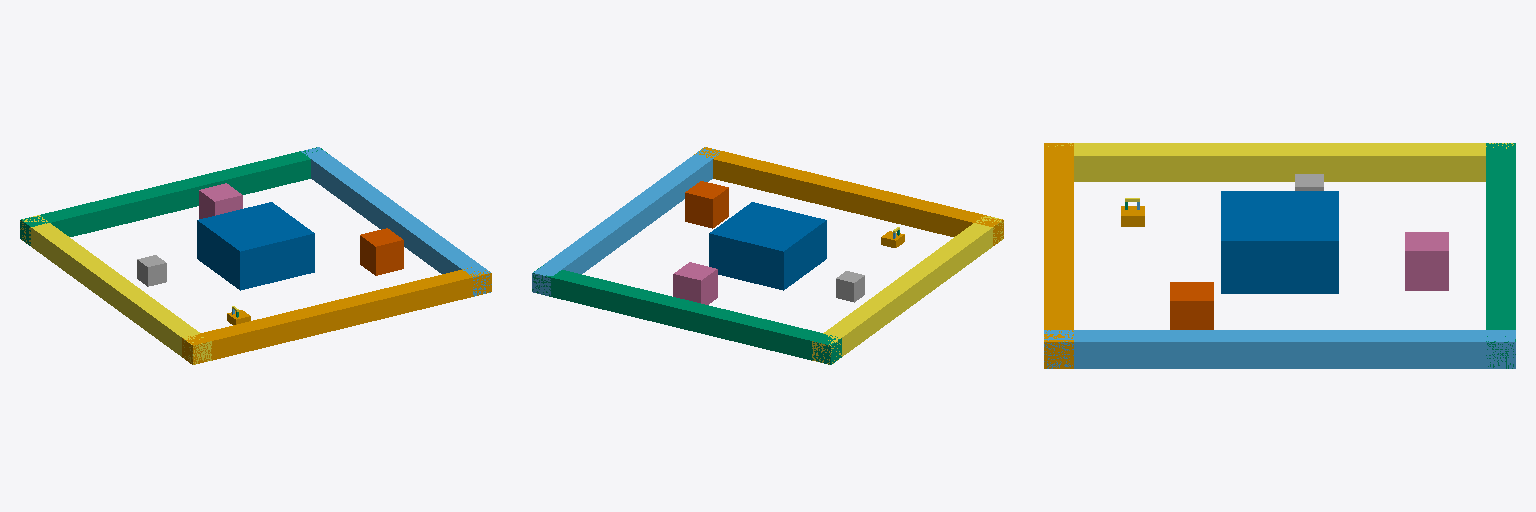
The robot description file, URDF, robot "test":
<robot name="test">

 <link name="wall_1">
    <inertial>
      <origin xyz="2.5 -1.25 0.25" /> 
      <mass value="1000.0" />
      <inertia  ixx="1.0" ixy="0.0"  ixz="0.0"  iyy="1.0"  iyz="0.0"  izz="1.0" />
    </inertial>
    <visual>
      <origin xyz="2.5 -1.25 0.25"/>
      <geometry>
        <box size="8 0.5 0.5" />
      </geometry>
    </visual>
    <collision>
      <origin xyz="2.5 -1.25 0.25"/>
      <geometry>
      <box size="8 0.5 0.5" />
      </geometry>
      <contact_coefficients mu ="1" /> 
    </collision>
  </link>

  <joint name="join1" type="fixed">
    <origin xyz="6.25 2.5 0.25" rpy="0 0 0"/>
    <parent link="wall_1"/>
    <child link="wall_2"/>
  </joint>

    <link name="wall_2">
    <inertial>
      <origin xyz="0 0 0" /> 
      <mass value="1000.0" />
      <inertia  ixx="1.0" ixy="0.0"  ixz="0.0"  iyy="1.0"  iyz="0.0"  izz="1.0" />
    </inertial>
    <visual>
      <origin xyz="0 0 0"/>
      <geometry>
        <box size="0.5 -8 0.5" />
      </geometry>
    </visual>
    <collision>
      <origin xyz="0 0 0"/>
      <geometry>
        <box size="0.5 -8 0.5" />
      </geometry>
      <contact_coefficients mu ="1" /> 
    </collision>
  </link>
  <joint name="join2" type="fixed">
    <origin xyz="-3.75 3.75 0" rpy="0 0 0"/>
    <parent link="wall_2"/>
    <child link="wall_3"/>
  </joint>
    <link name="wall_3">
    <inertial>
      <origin xyz="0 0 0" /> 
      <mass value="1000.0" />
      <inertia  ixx="1.0" ixy="0.0"  ixz="0.0"  iyy="1.0"  iyz="0.0"  izz="1.0" />
    </inertial>
    <visual>
      <origin xyz="0 0 0"/>
      <geometry>
        <box size="8 0.5 0.5" />
      </geometry>
    </visual>
    <collision>
      <origin xyz="0 0 0"/>
      <geometry>
        <box size="8 0.5 0.5" />
      </geometry>
      <contact_coefficients mu ="1" /> 
    </collision>
  </link>
  <joint name="join3" type="fixed">
    <origin xyz="-3.75 -3.75 0" rpy="0 0 0"/>
    <parent link="wall_3"/>
    <child link="wall_4"/>
  </joint>
    <link name="wall_4">
    <inertial>
      <origin xyz="0 0 0" /> 
      <mass value="1000.0" />
      <inertia  ixx="1.0" ixy="0.0"  ixz="0.0"  iyy="1.0"  iyz="0.0"  izz="1.0" />
    </inertial>
    <visual>
      <origin xyz="0 0 0"/>
      <geometry>
        <box size="0.5 -8 0.5" />
      </geometry>
    </visual>
    <collision>
      <origin xyz="0 0 0"/>
      <geometry>
        <box size="0.5 -8 0.5" />
      </geometry>
      <contact_coefficients mu ="1" /> 
    </collision>
  </link>
  <joint name="join4" type="fixed">
    <origin xyz="2.5 2.5 0.5" rpy="0 0 0"/>
    <parent link="wall_1"/>
    <child link="obs_1"/>
  </joint>
    <link name="obs_1">
    <inertial>
      <origin xyz="0 0 0" /> 
      <mass value="1000.0" />
      <inertia  ixx="1.0" ixy="0.0"  ixz="0.0"  iyy="1.0"  iyz="0.0"  izz="1.0" />
    </inertial>
    <visual>
      <origin xyz="0 0 0"/>
      <geometry>
        <box size="2 2 1" />
      </geometry>
    </visual>
    <collision>
      <origin xyz="0 0 0"/>
      <geometry>
        <box size="2 2 1" />
      </geometry>
      <contact_coefficients mu ="1" /> 
    </collision>
  </link>

  <joint name="join5" type="fixed">
    <origin xyz="5 1 0.375" rpy="0 0 0"/>
    <parent link="wall_1"/>
    <child link="obs_2"/>
  </joint>
    <link name="obs_2">
    <inertial>
      <origin xyz="0 0 0" /> 
      <mass value="1000.0" />
      <inertia  ixx="1.0" ixy="0.0"  ixz="0.0"  iyy="1.0"  iyz="0.0"  izz="1.0" />
    </inertial>
    <visual>
      <origin xyz="0 0 0"/>
      <geometry>
        <box size="0.75 0.75 0.75" />
      </geometry>
    </visual>
    <collision>
      <origin xyz="0 0 0"/>
      <geometry>
        <box size="0.75 0.75 0.75" />
      </geometry>
      <contact_coefficients mu ="1" /> 
    </collision>
  </link>

  <joint name="join6" type="fixed">
    <origin xyz="3 5 0.375" rpy="0 0 0"/>
    <parent link="wall_1"/>
    <child link="obs_3"/>
  </joint>
    <link name="obs_3">
    <inertial>
      <origin xyz="0 0 0" /> 
      <mass value="1000.0" />
      <inertia  ixx="1.0" ixy="0.0"  ixz="0.0"  iyy="1.0"  iyz="0.0"  izz="1.0" />
    </inertial>
    <visual>
      <origin xyz="0 0 0"/>
      <geometry>
        <box size="0.75 0.75 0.75" />
      </geometry>
    </visual>
    <collision>
      <origin xyz="0 0 0"/>
      <geometry>
        <box size="0.75 0.75 0.75" />
      </geometry>
      <contact_coefficients mu ="1" /> 
    </collision>
  </link>
  <joint name="join7" type="fixed">
    <origin xyz="0 3 0.25" rpy="0 0 0"/>
    <parent link="wall_1"/>
    <child link="obs_4"/>
  </joint>
    <link name="obs_4">
    <inertial>
      <origin xyz="0 0 0" /> 
      <mass value="1000.0" />
      <inertia  ixx="1.0" ixy="0.0"  ixz="0.0"  iyy="1.0"  iyz="0.0"  izz="1.0" />
    </inertial>
    <visual>
      <origin xyz="0 0 0"/>
      <geometry>
        <box size="0.5 0.5 0.5" />
      </geometry>
    </visual>
    <collision>
      <origin xyz="0 0 0"/>
      <geometry>
        <box size="0.5 0.5 0.5" />
      </geometry>
      <contact_coefficients mu ="1" /> 
    </collision>
  </link>
 

  <joint name="join10" type="fixed">
    <origin xyz="0.6 0 0.1" rpy="0 0 0"/>
    <parent link="wall_1"/>
    <child link="obs_7"/>
  </joint>
    <link name="obs_7">
    <inertial>
      <origin xyz="0 0 0" /> 
      <mass value="1000.0" />
      <inertia  ixx="1.0" ixy="0.0"  ixz="0.0"  iyy="1.0"  iyz="0.0"  izz="1.0" />
    </inertial>
    <visual>
      <origin xyz="0 0 0"/>
      <geometry>
        <box size="0.4 0.4 0.2" />
      </geometry>
    </visual>
    <collision>
      <origin xyz="0 0 0"/>
      <geometry>
        <box size="0.4 0.4 0.2" />
      </geometry>
      <contact_coefficients mu ="1" /> 
    </collision>
  </link>

  <joint name="join11" type="fixed">
    <origin xyz="0.5 0.1 0.275" rpy="0 0 0"/>
    <parent link="wall_1"/>
    <child link="obs_8"/>
  </joint>
    <link name="obs_8">
    <inertial>
      <origin xyz="0 0 0" /> 
      <mass value="1000.0" />
      <inertia  ixx="1.0" ixy="0.0"  ixz="0.0"  iyy="1.0"  iyz="0.0"  izz="1.0" />
    </inertial>
    <visual>
      <origin xyz="0 0 0"/>
      <geometry>
        <box size="0.05 0.05 0.15" />
      </geometry>
    </visual>
    <collision>
      <origin xyz="0 0 0"/>
      <geometry>
        <box size="0.05 0.05 0.15" />
      </geometry>
      <contact_coefficients mu ="1" /> 
    </collision>
  </link>

  <joint name="join12" type="fixed">
    <origin xyz="0.5 -0.1 0.275" rpy="0 0 0"/>
    <parent link="wall_1"/>
    <child link="obs_9"/>
  </joint>
    <link name="obs_9">
    <inertial>
      <origin xyz="0 0 0" /> 
      <mass value="1000.0" />
      <inertia  ixx="1.0" ixy="0.0"  ixz="0.0"  iyy="1.0"  iyz="0.0"  izz="1.0" />
    </inertial>
    <visual>
      <origin xyz="0 0 0"/>
      <geometry>
        <box size="0.05 0.05 0.15" />
      </geometry>
    </visual>
    <collision>
      <origin xyz="0 0 0"/>
      <geometry>
        <box size="0.05 0.05 0.15" />
      </geometry>
      <contact_coefficients mu ="1" /> 
    </collision>
  </link>

  <joint name="join13" type="fixed">
    <origin xyz="0.5 0 0.375" rpy="0 0 0"/>
    <parent link="wall_1"/>
    <child link="obs_top"/>
  </joint>
    <link name="obs_top">
    <inertial>
      <origin xyz="0 0 0" /> 
      <mass value="1000.0" />
      <inertia  ixx="1.0" ixy="0.0"  ixz="0.0"  iyy="1.0"  iyz="0.0"  izz="1.0" />
    </inertial>
    <visual>
      <origin xyz="0 0 0"/>
      <geometry>
        <box size="0.05 0.25 0.05" />
      </geometry>
    </visual>
    <collision>
      <origin xyz="0 0 0"/>
      <geometry>
        <box size="0.05 0.25 0.05" />
      </geometry>
      <contact_coefficients mu ="1" /> 
    </collision>
  </link>




  <gazebo reference="wall_1">
  <material>Gazebo/Grey</material>
  <selfCollide>true</selfCollide>
  </gazebo>
  <gazebo reference="wall_2">
  <material>Gazebo/Grey</material>
  <selfCollide>true</selfCollide>
  </gazebo>
  <gazebo reference="wall_3">
  <material>Gazebo/Grey</material>
  <selfCollide>true</selfCollide>
  </gazebo>
  <gazebo reference="wall_4">
  <material>Gazebo/Grey</material>
  <selfCollide>true</selfCollide>
  </gazebo>
  <gazebo reference="obs_1">
  <material>Gazebo/Red</material>
  <selfCollide>true</selfCollide>
  </gazebo>
  <gazebo reference="obs_2">
  <material>Gazebo/Green</material>
  <selfCollide>true</selfCollide>
  </gazebo>  
  <gazebo reference="obs_3">
  <material>Gazebo/Blue</material>
  <selfCollide>true</selfCollide>
  </gazebo>    
  <gazebo reference="obs_4">
  <material>Gazebo/Purple</material>
  <selfCollide>true</selfCollide>
  </gazebo>    
    
</robot>

--- Render facts (derived) ---
Views: 3 orthographic renders of the robot side by side, from view 1: azimuth 30°, elevation 25°; view 2: azimuth 150°, elevation 25°; view 3: azimuth 270°, elevation 25°.
Robot: test — 12 links, 11 joints (11 fixed); root link wall_1; default pose: all joints at 0.
Links seen in each view (by area): view 1: wall_1, obs_1, wall_3, wall_4, wall_2, obs_2, obs_3, obs_4; view 2: wall_3, wall_1, obs_1, wall_4, wall_2, obs_2, obs_3, obs_4; view 3: wall_2, wall_4, obs_1, wall_1, wall_3, obs_3, obs_2.
Boxes of the visible links, box(x1,y1,x2,y2) form: wall_1: box(182, 267, 491, 364); obs_1: box(197, 202, 314, 290); wall_3: box(20, 147, 327, 245); wall_4: box(20, 215, 211, 364); wall_2: box(301, 147, 491, 296); obs_2: box(360, 228, 403, 275); obs_3: box(199, 183, 242, 218); obs_4: box(137, 255, 166, 286); wall_3: box(532, 265, 841, 364); wall_1: box(694, 147, 1003, 245); obs_1: box(709, 202, 826, 290); wall_4: box(812, 216, 1003, 364); wall_2: box(532, 147, 719, 295); obs_2: box(685, 181, 728, 228); obs_3: box(673, 262, 717, 304); obs_4: box(836, 271, 864, 302); wall_2: box(1044, 330, 1515, 368); wall_4: box(1048, 143, 1513, 181); obs_1: box(1221, 191, 1338, 293); wall_1: box(1044, 143, 1073, 368); wall_3: box(1486, 143, 1515, 368); obs_3: box(1405, 232, 1448, 290); obs_2: box(1170, 282, 1213, 329).
Size in the robot's own frame: 8 by 8 by 1 metres.
Geometry: primitives only (box / cylinder / sphere), no mesh files.